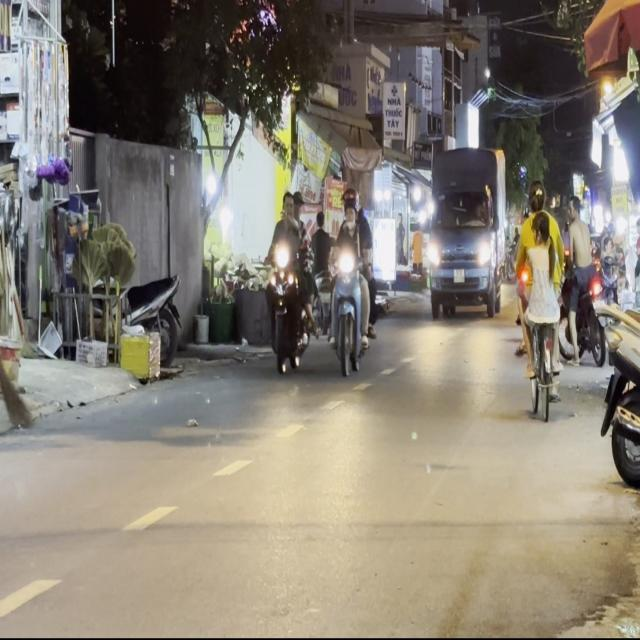licenseplate: (266, 186, 320, 378), (326, 181, 376, 375)
